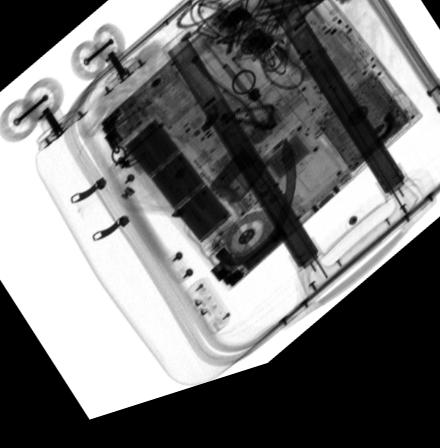Scissors: (228, 0, 367, 61)
